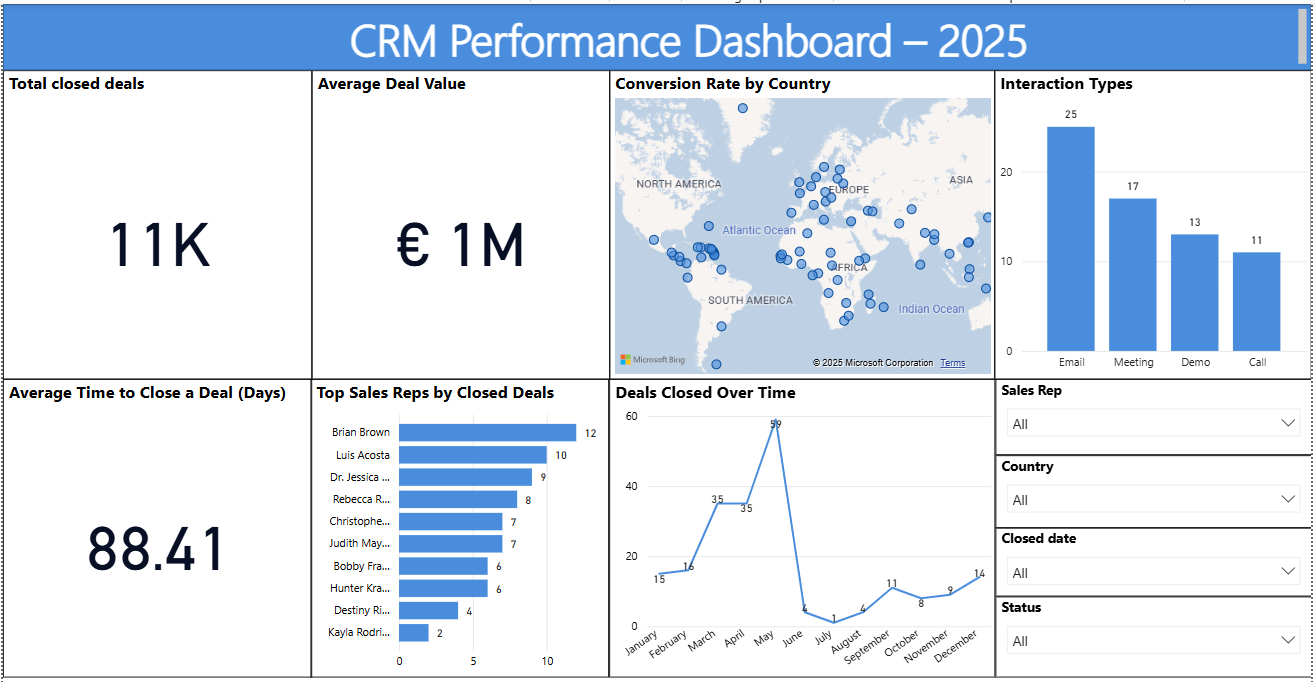

What the dashboard file says about the page in this screenshot:
{"tool":"powerbi","page":{"name":"Page 1","canvas":[1280,720],"ordinal":0},"visuals":[{"type":"card","title":"Total closed deals","fields":{"Values":["crm_project opportunities.opportunity_id"]},"box":[0,64.8,302,302],"z":0},{"type":"card","title":"Average Deal Value","fields":{"Values":["crm_project opportunities.value"]},"box":[302,64.8,292.3,302],"z":1000},{"type":"card","title":"Average Time to Close a Deal (Days)","fields":{"Values":["crm_project opportunities.DaysToClose"]},"box":[0,366.8,302,292.3],"z":2000},{"type":"barChart","title":"Top Sales Reps by Closed Deals","fields":{"Category":["crm_project sales_reps.name"],"Y":["crm_project opportunities.opportunity_id"]},"box":[300.8,366.8,292.3,292.3],"z":3000},{"type":"map","title":"Conversion Rate by Country","fields":{"Category":["crm_project customers.country"]},"box":[593.1,64.8,377.9,302],"z":4000},{"type":"lineChart","title":"Deals Closed Over Time","fields":{"Category":["crm_project opportunities.closed_date.Variation.Date Hierarchy.Month"],"Y":["crm_project opportunities.opportunity_id"]},"box":[593.1,366.8,377.9,292.3],"z":5000},{"type":"columnChart","title":"Interaction Types","fields":{"Category":["crm_project interactions.interaction_type"],"Y":["crm_project interactions.interaction_id"]},"box":[969.7,64.8,310.6,302],"z":6000},{"type":"slicer","title":"Sales Rep ","fields":{"Values":["crm_project sales_reps.name"]},"box":[970.9,366.8,309.4,74.6],"z":7000},{"type":"slicer","title":"Country","fields":{"Values":["crm_project customers.country"]},"box":[970.9,441.4,309.4,70.9],"z":8000},{"type":"slicer","title":"Status","fields":{"Values":["crm_project opportunities.status"]},"box":[970.9,579.6,309.4,79.5],"z":9000},{"type":"slicer","title":"Closed date","fields":{"Values":["crm_project opportunities.closed_date"]},"box":[970.9,512.4,309.4,67.3],"z":10000},{"type":"shape","box":[0,0,1280.3,64.8],"z":11000},{"type":"textbox","box":[0,0,1280.3,64.8],"z":12000}]}

Visuals, with their boxes on the page's 1280x720 design canvas (x1, y1, x2, y2). These are canvas units, not pixel positions in the 1315x682 screenshot, which may show the page scaled, cropped or inside an application window:
"Total closed deals" card: 0 65 302 367
"Average Deal Value" card: 302 65 594 367
"Average Time to Close a Deal (Days)" card: 0 367 302 659
"Top Sales Reps by Closed Deals" barChart: 301 367 593 659
"Conversion Rate by Country" map: 593 65 971 367
"Deals Closed Over Time" lineChart: 593 367 971 659
"Interaction Types" columnChart: 970 65 1280 367
"Sales Rep " slicer: 971 367 1280 441
"Country" slicer: 971 441 1280 512
"Status" slicer: 971 580 1280 659
"Closed date" slicer: 971 512 1280 580
shape: 0 0 1280 65
textbox: 0 0 1280 65
